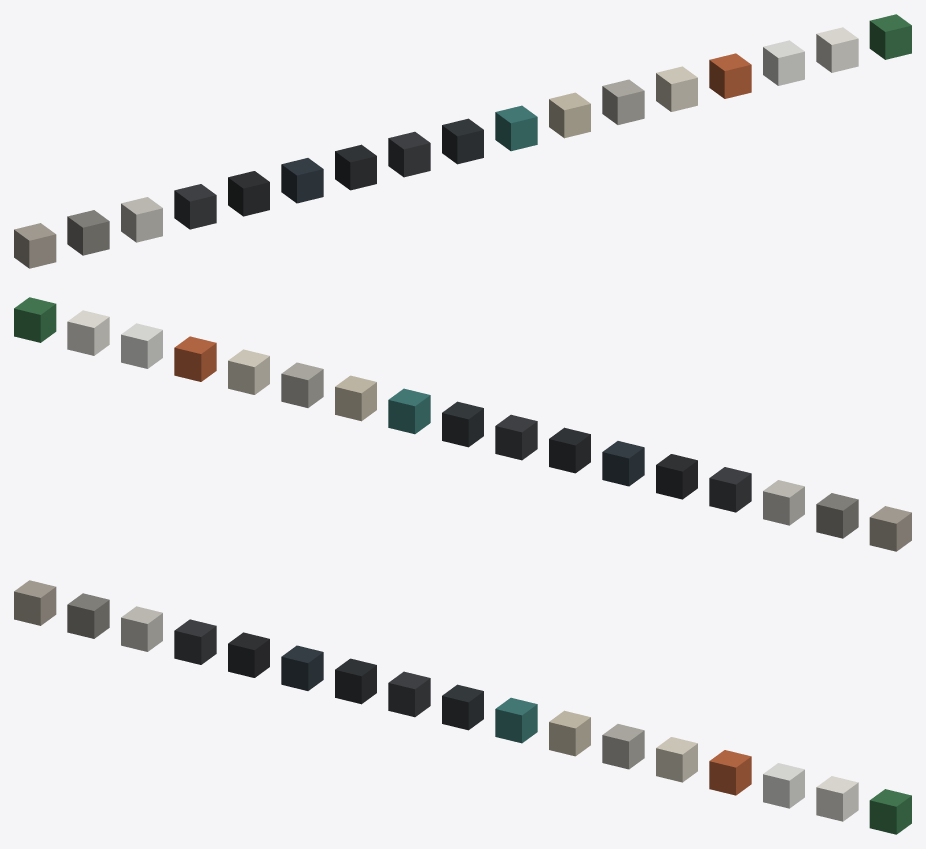
Rendered from civic.glb.
3 renders of one model, top to bottom at view 1: azimuth 30°, elevation 25°; view 2: azimuth 150°, elevation 25°; view 3: azimuth 330°, elevation 25°, orthographic.
Parts seen in each view (by area): view 1: civic; view 2: civic; view 3: civic.
Part boxes in pixels (x1=…): civic: x1=14, y1=14, x2=911, y2=268; civic: x1=14, y1=297, x2=911, y2=551; civic: x1=14, y1=580, x2=911, y2=834.
Size of the model in its own units: 33 by 1 by 1.
